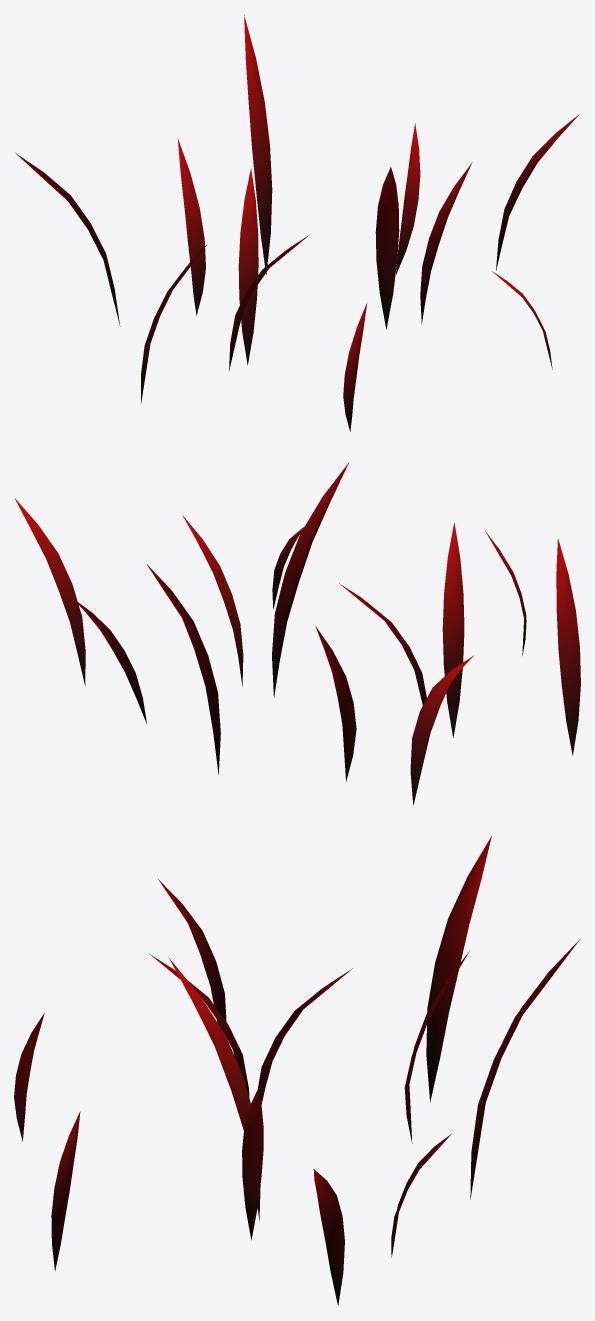
The model's file is Grass_Forest_LOD0.fbx.
3 renders of one model, top to bottom at view 1: azimuth 30°, elevation 25°; view 2: azimuth 150°, elevation 25°; view 3: azimuth 270°, elevation 25°, orthographic. The views are drawn at different scales.
Parts seen in each view (by area): view 1: Grass_Forest_LOD0; view 2: Grass_Forest_LOD0; view 3: Grass_Forest_LOD0.
Part boxes in pixels (x1,y1,x2,y2): Grass_Forest_LOD0: (15, 15, 579, 431); Grass_Forest_LOD0: (14, 462, 580, 805); Grass_Forest_LOD0: (14, 836, 579, 1306).
Size of the model in its own units: 0.9795 by 0.4231 by 0.7872.
